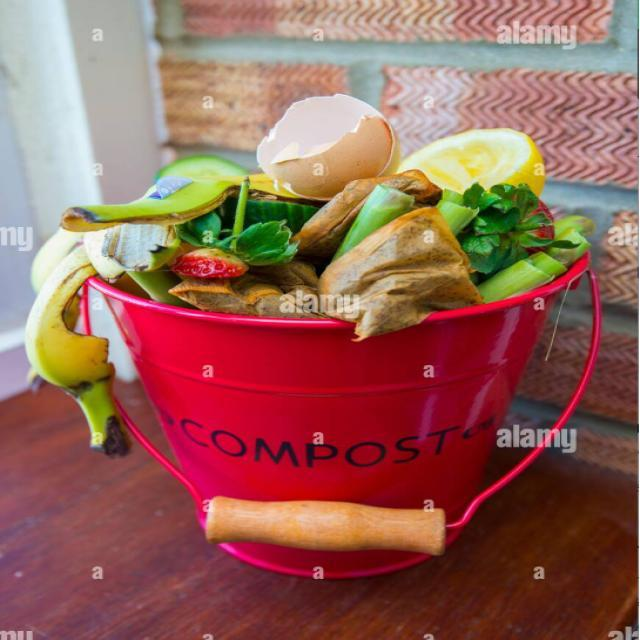Dry: (83, 251, 603, 579), (257, 95, 402, 195)
Wet: (168, 169, 484, 341), (24, 228, 134, 456), (397, 128, 546, 199)
